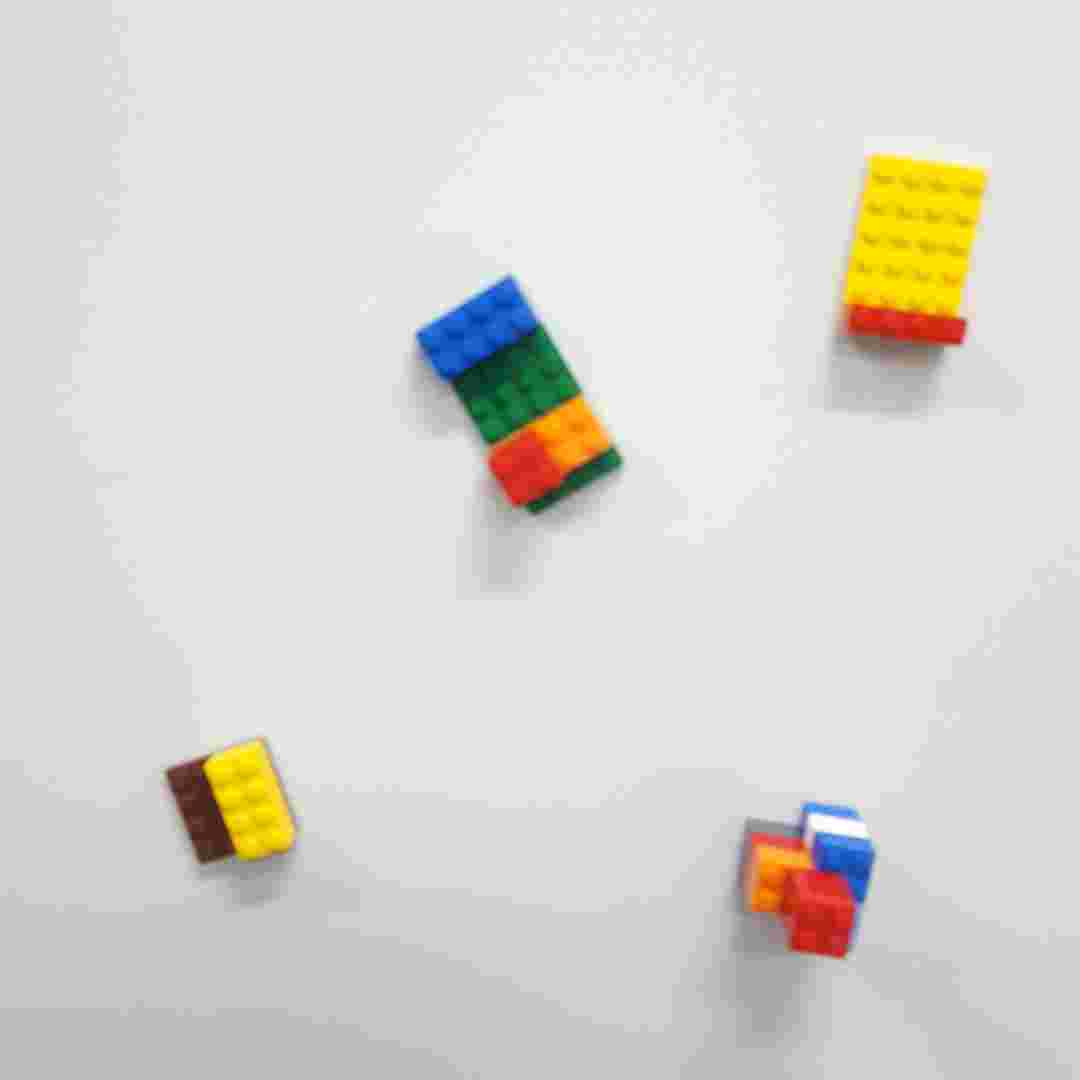LEGO: (409, 269, 627, 526), (830, 155, 988, 348), (731, 797, 875, 961), (164, 732, 301, 870)
